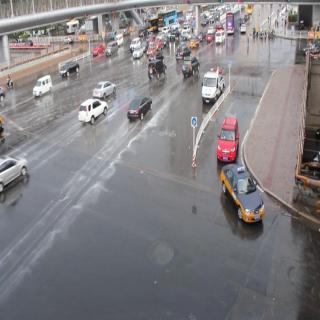BigCar: (222, 7, 246, 34)
Car: (214, 163, 274, 243), (193, 62, 228, 105), (215, 111, 240, 166), (124, 86, 154, 126), (72, 96, 108, 124), (86, 76, 119, 98), (176, 50, 200, 78), (55, 61, 82, 80), (33, 76, 54, 100), (147, 62, 169, 82), (103, 38, 120, 60), (148, 47, 164, 68), (90, 39, 105, 61), (173, 44, 191, 59), (131, 42, 144, 62), (144, 41, 156, 60), (214, 30, 227, 47)
